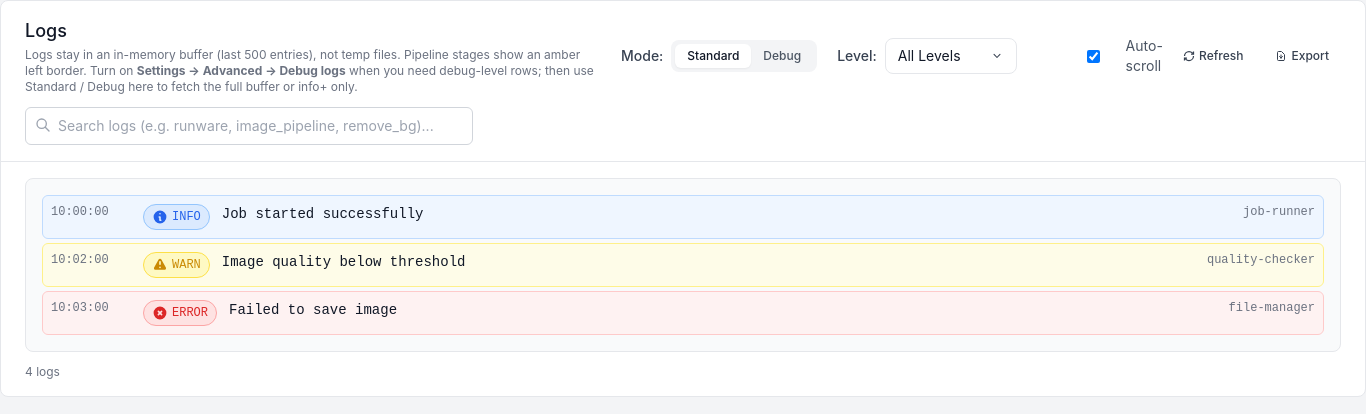
it: LogViewer › handles case-sensitive search
Type "QUALITY" into the field with placeholder "Search logs (e.g. runware, image_pipeline, remove_bg)..." at (249, 126), box [25,107,473,145]
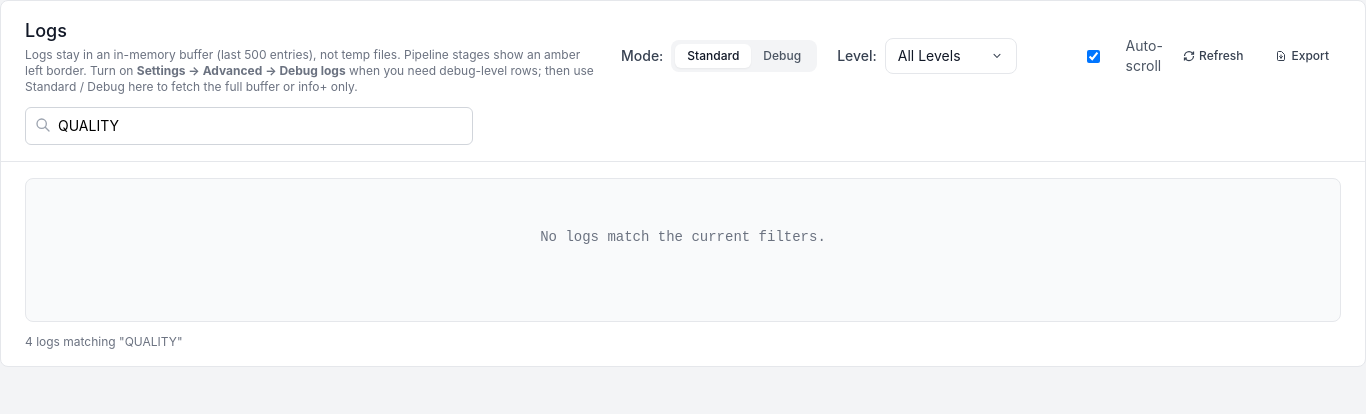
expect the text "Image quality below threshold" is gone: met
